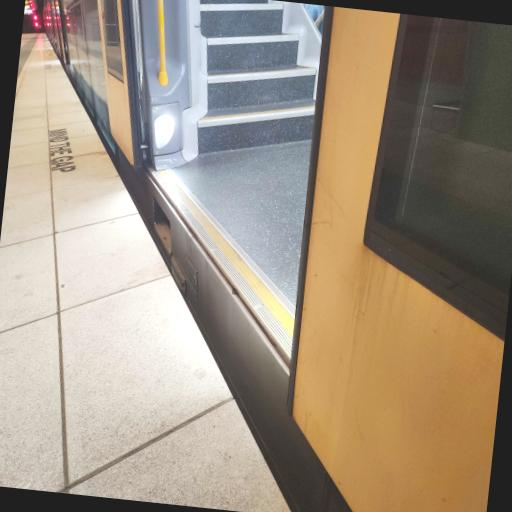gap: (45, 32, 353, 512)
